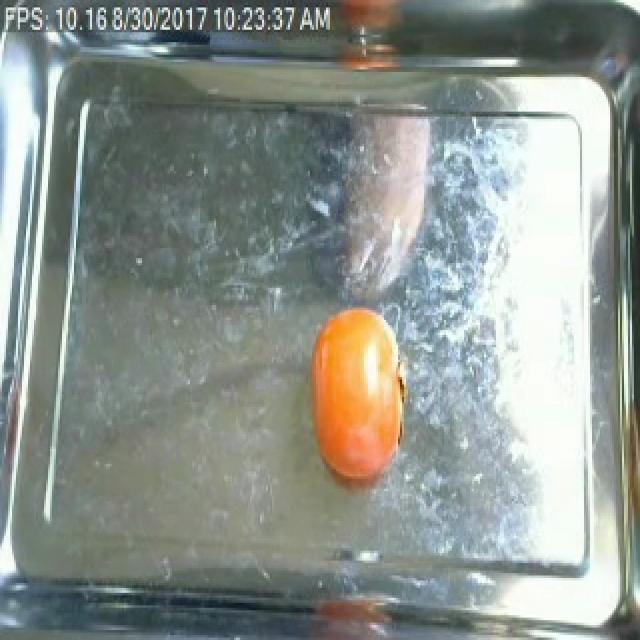Fruit: (304, 302, 412, 488), (328, 0, 412, 35)
